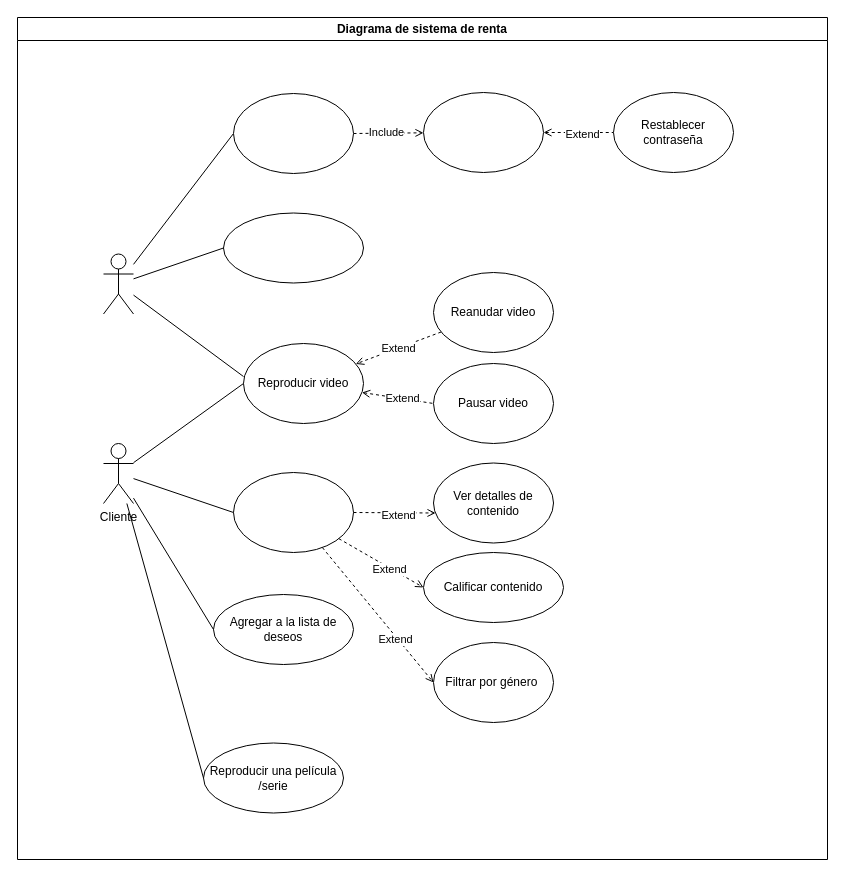
Image size: 845x877. Some labels were removed from this diagram. The shapes that lost their labels are listed below. From the top down, each one's centre as x and y in pixels, then its label:
point (293, 133): Registrarse
point (483, 132): Iniciar seción
point (293, 247): Gestionar perfil
point (118, 283): Empleado
point (293, 512): Buscar contenido
